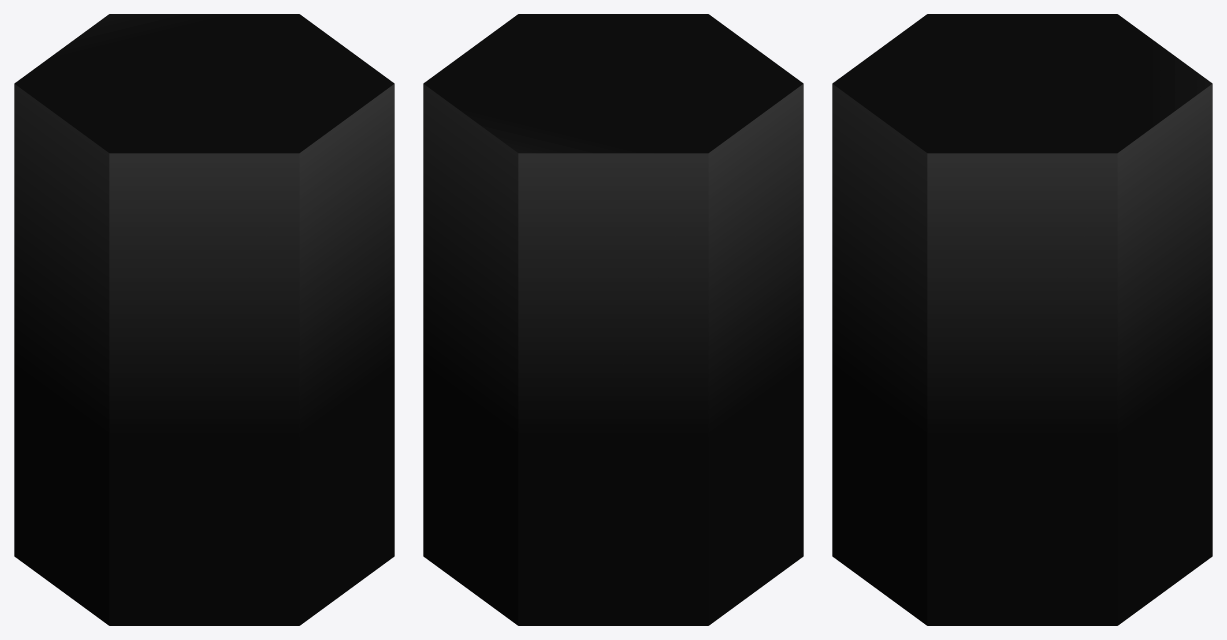
Rendered from CambioEscena.fbx.
3 views of the same model, side by side, from view 1: azimuth 30°, elevation 25°; view 2: azimuth 150°, elevation 25°; view 3: azimuth 270°, elevation 25° (orthographic).
Parts seen in each view (by area): view 1: Cylinder; view 2: Cylinder; view 3: Cylinder.
Part boxes in pixels (box(x1,y1,x2,y2)): Cylinder: box(14, 14, 394, 625); Cylinder: box(423, 14, 803, 625); Cylinder: box(832, 14, 1212, 625).
Size of the model in its own units: 173 by 274 by 200.
Materials: 1 (1 with a texture image).
